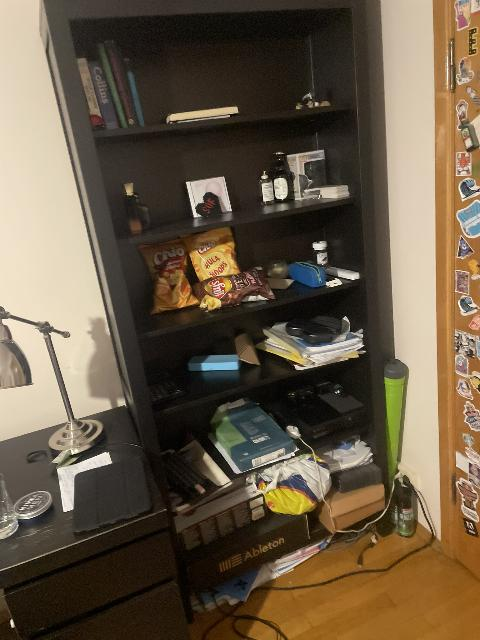Chio Cascaval 125g: (138, 237, 200, 315)
Chio Hula Hoops Cheese 70g: (184, 228, 238, 285)
Lays Beef Grilled Ribs 125g: (194, 267, 272, 311)
